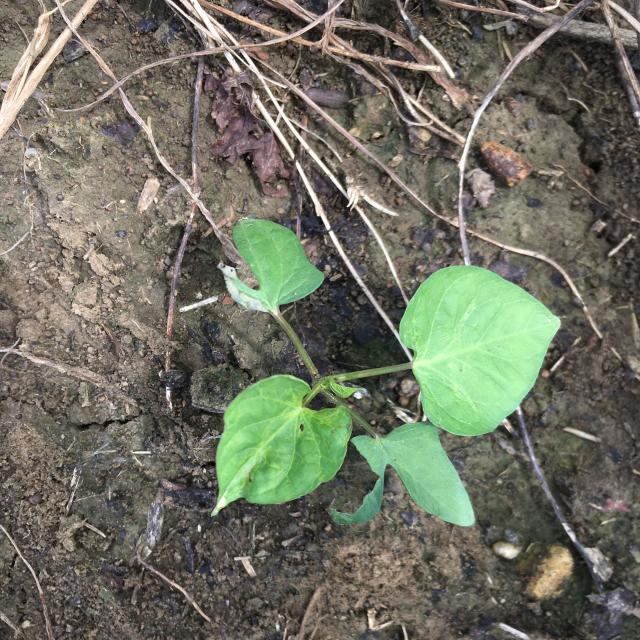Waterhemp: (211, 218, 562, 527)
